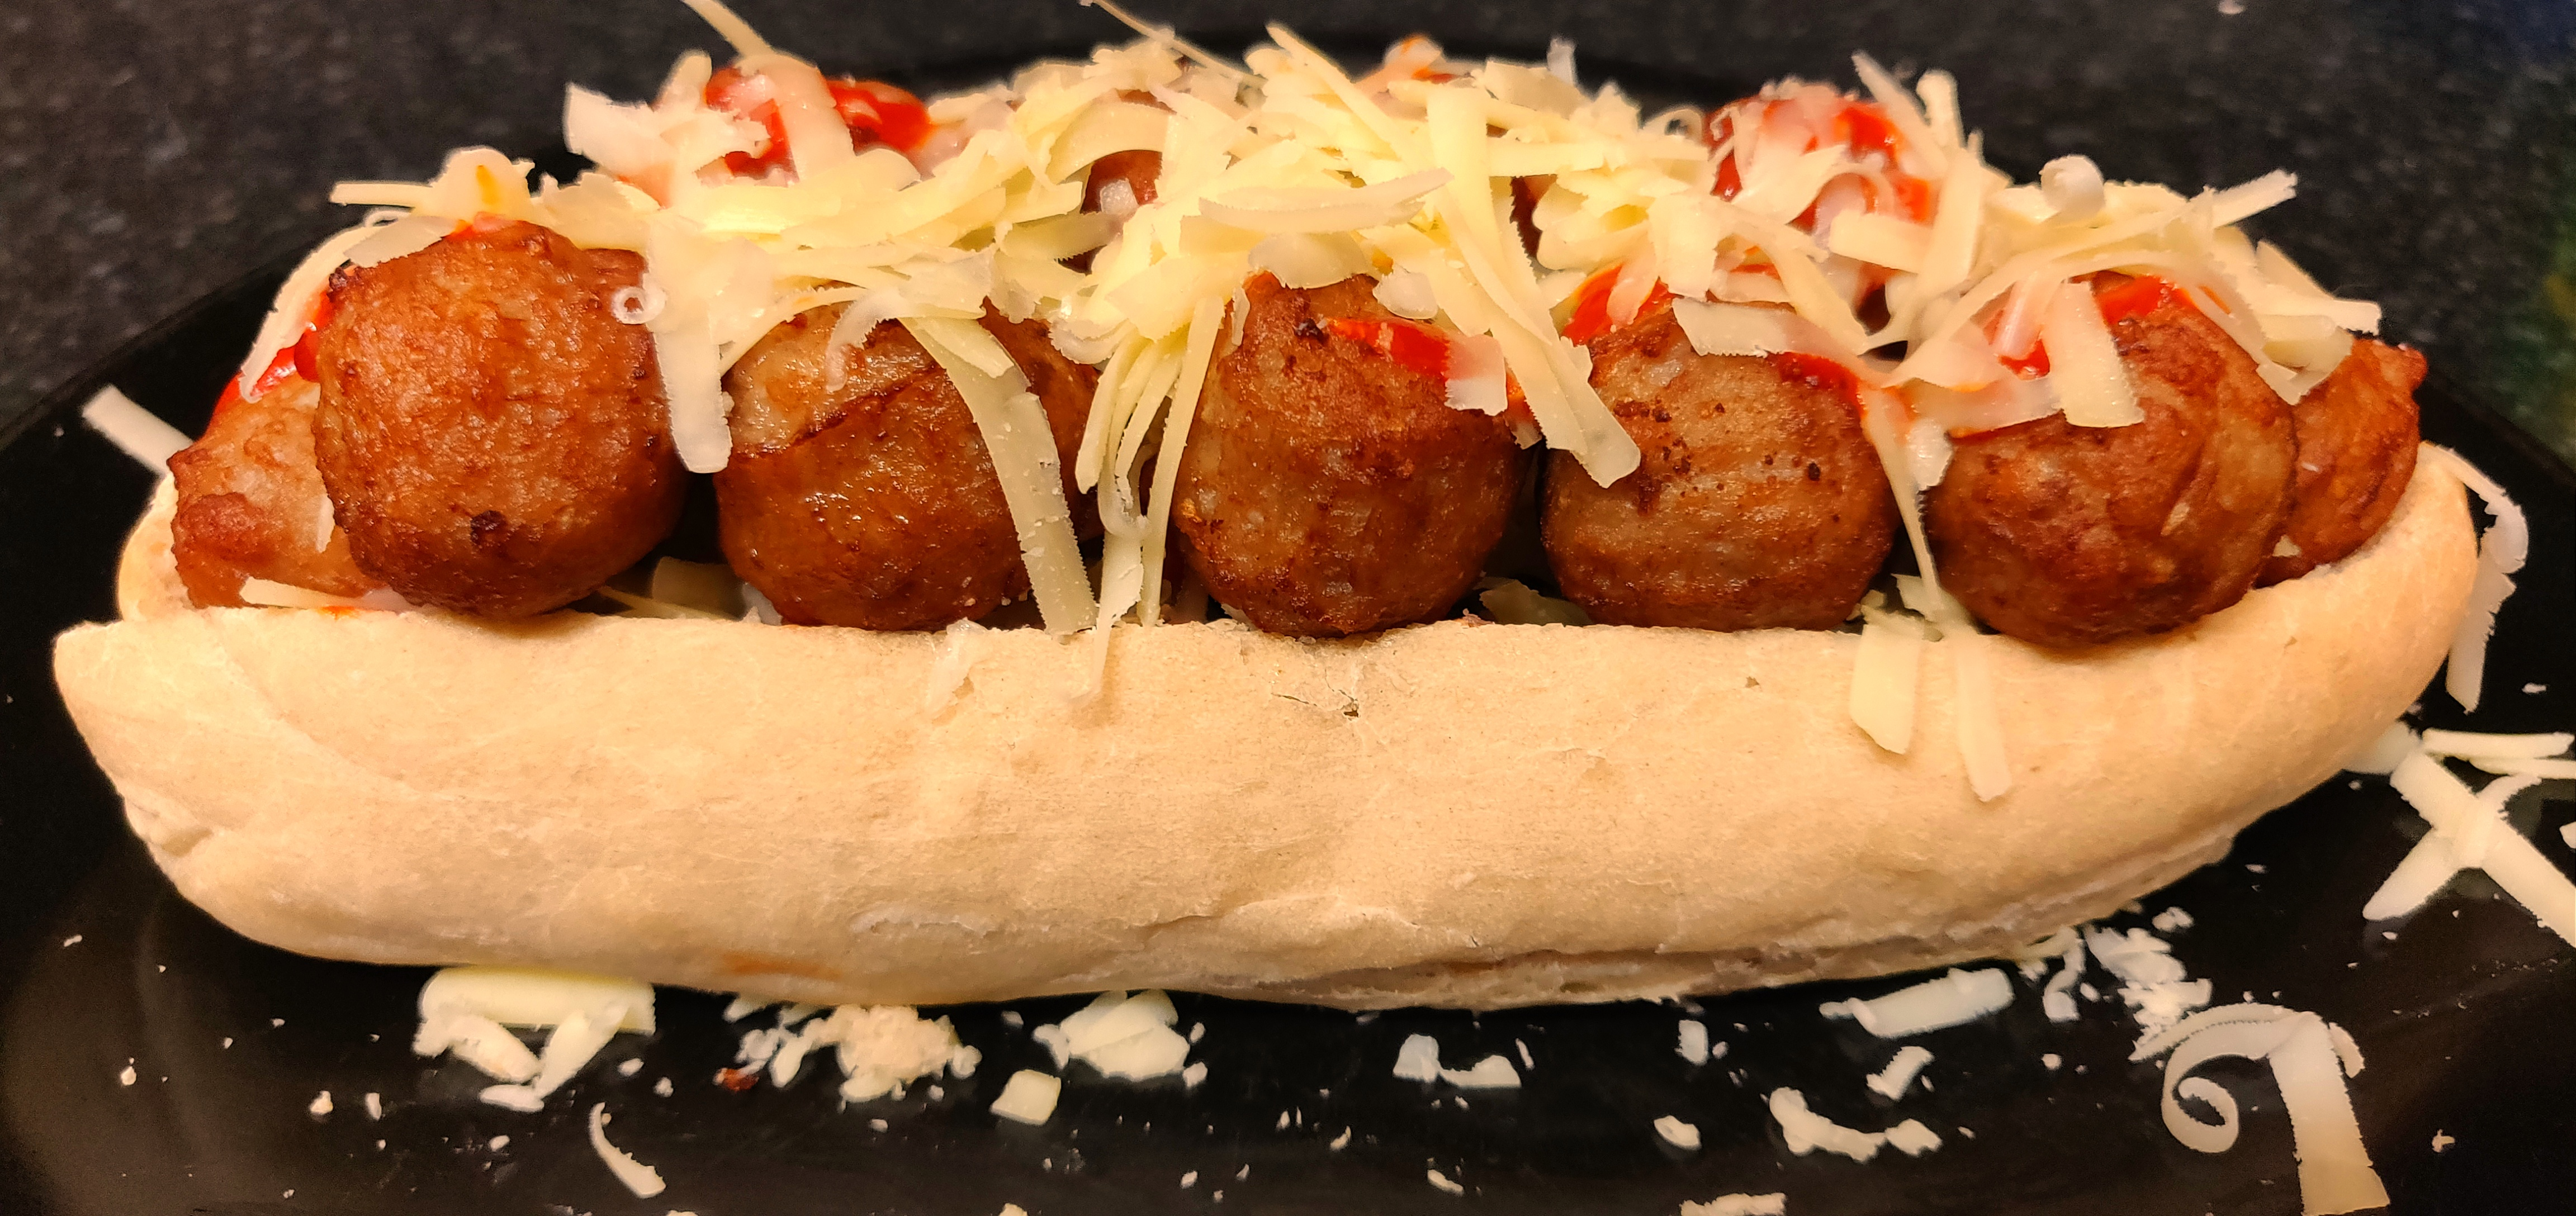meatballs: (309, 245, 688, 623), (1168, 279, 1528, 641), (1930, 304, 2297, 659), (711, 312, 1096, 636), (1554, 296, 1904, 647)
